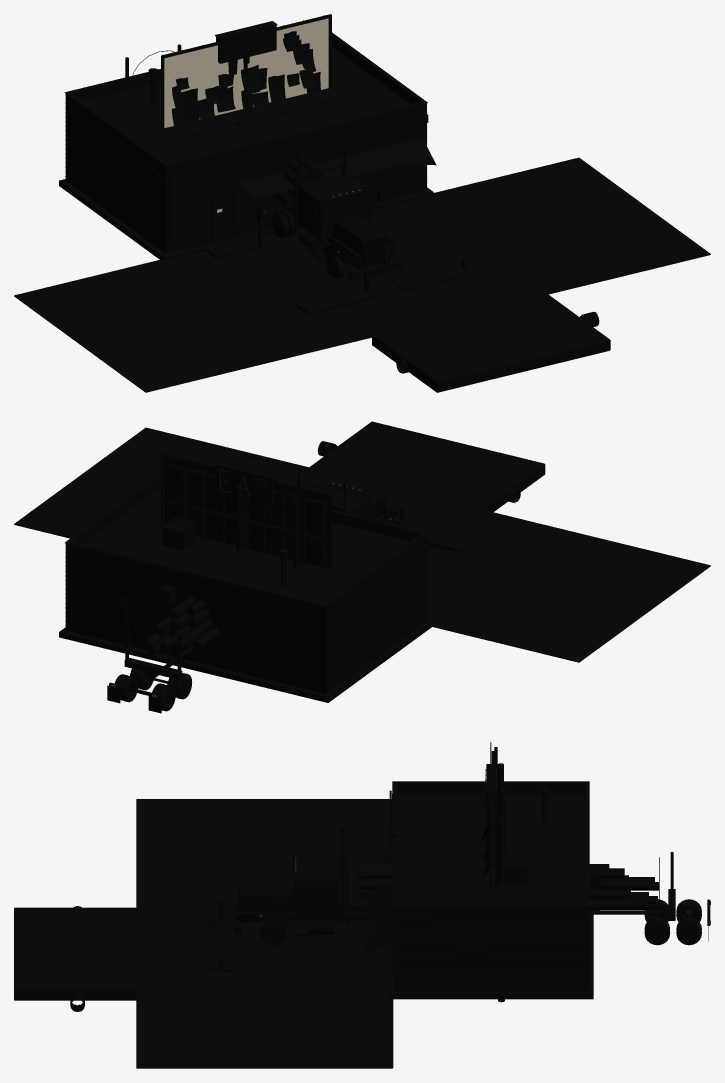
File: props_road.glb
The picture shows the model from 3 angles, top to bottom: view 1: azimuth 30°, elevation 25°; view 2: azimuth 150°, elevation 25°; view 3: azimuth 270°, elevation 25°; orthographic projection. The views are drawn at different scales.
Visible parts, largest first — view 1: P_RC9_DINER-diner, P_RC9_TRUCK-logging_truck, P_RC9_BILLBOARD-billboard-face, P_RC9_BILLBOARD-billboard-peel, P_RC9_EAT-eat_sign, P_RC9_BILLBOARD-billboard, P_RC9_TRUCK-logging_truck-logs; view 2: P_RC9_DINER-diner, P_RC9_BILLBOARD-billboard, P_RC9_TRUCK-logging_truck, P_RC9_TRUCK-logging_truck-logs, P_RC9_EAT-eat_sign, P_RC9_TRUCK-logging_truck-axle_5, P_RC9_TRUCK-logging_truck-axle_4; view 3: P_RC9_DINER-diner, P_RC9_TRUCK-logging_truck, P_RC9_TRUCK-logging_truck-logs, P_RC9_BILLBOARD-billboard, P_RC9_TRUCK-logging_truck-axle_5, P_RC9_TRUCK-logging_truck-axle_4, P_RC9_TRUCK-logging_truck-axle_1.
Part boxes in pixels (x1,y1,x2,y2): P_RC9_DINER-diner: (14, 32, 710, 392); P_RC9_TRUCK-logging_truck: (125, 44, 403, 280); P_RC9_BILLBOARD-billboard-face: (164, 18, 328, 127); P_RC9_BILLBOARD-billboard-peel: (172, 31, 320, 127); P_RC9_EAT-eat_sign: (215, 21, 277, 103); P_RC9_BILLBOARD-billboard: (161, 14, 331, 134); P_RC9_TRUCK-logging_truck-logs: (273, 156, 326, 208); P_RC9_DINER-diner: (14, 421, 710, 702); P_RC9_BILLBOARD-billboard: (161, 454, 331, 570); P_RC9_TRUCK-logging_truck: (107, 469, 403, 713); P_RC9_TRUCK-logging_truck-logs: (142, 596, 219, 655); P_RC9_EAT-eat_sign: (215, 461, 277, 549); P_RC9_TRUCK-logging_truck-axle_5: (114, 674, 175, 711); P_RC9_TRUCK-logging_truck-axle_4: (130, 668, 192, 699); P_RC9_DINER-diner: (14, 781, 600, 1068); P_RC9_TRUCK-logging_truck: (234, 826, 710, 941); P_RC9_TRUCK-logging_truck-logs: (356, 863, 658, 910); P_RC9_BILLBOARD-billboard: (461, 742, 505, 1002); P_RC9_TRUCK-logging_truck-axle_5: (676, 899, 701, 945); P_RC9_TRUCK-logging_truck-axle_4: (644, 899, 669, 945); P_RC9_TRUCK-logging_truck-axle_1: (260, 911, 285, 945).
Bounding box in the file's own units: 26 × 8.85 × 28.49.
